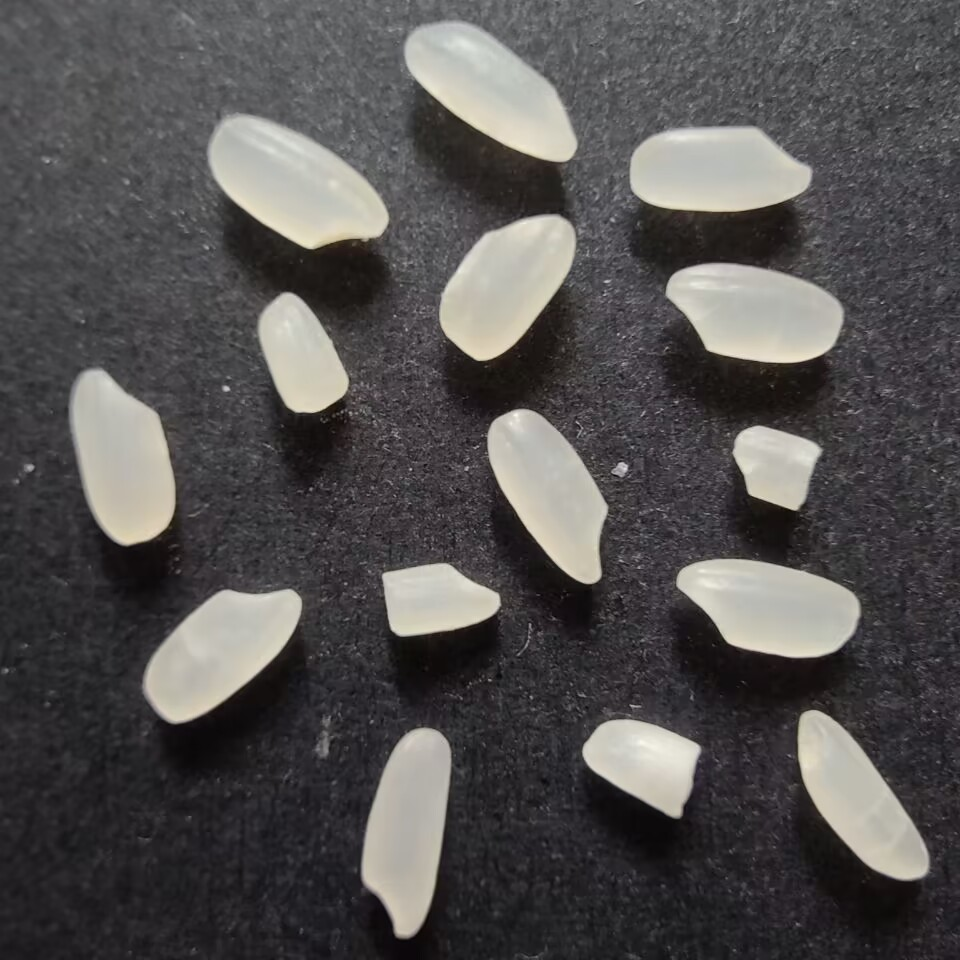broken: (576, 713, 702, 826), (253, 289, 352, 416), (379, 561, 503, 642), (727, 420, 823, 514)
rice: (204, 110, 394, 252), (791, 702, 933, 887), (403, 17, 580, 164), (139, 583, 305, 729), (434, 209, 578, 366), (484, 409, 609, 585), (66, 363, 181, 550), (360, 722, 453, 941), (671, 557, 863, 660), (663, 261, 845, 367), (624, 122, 816, 213)
